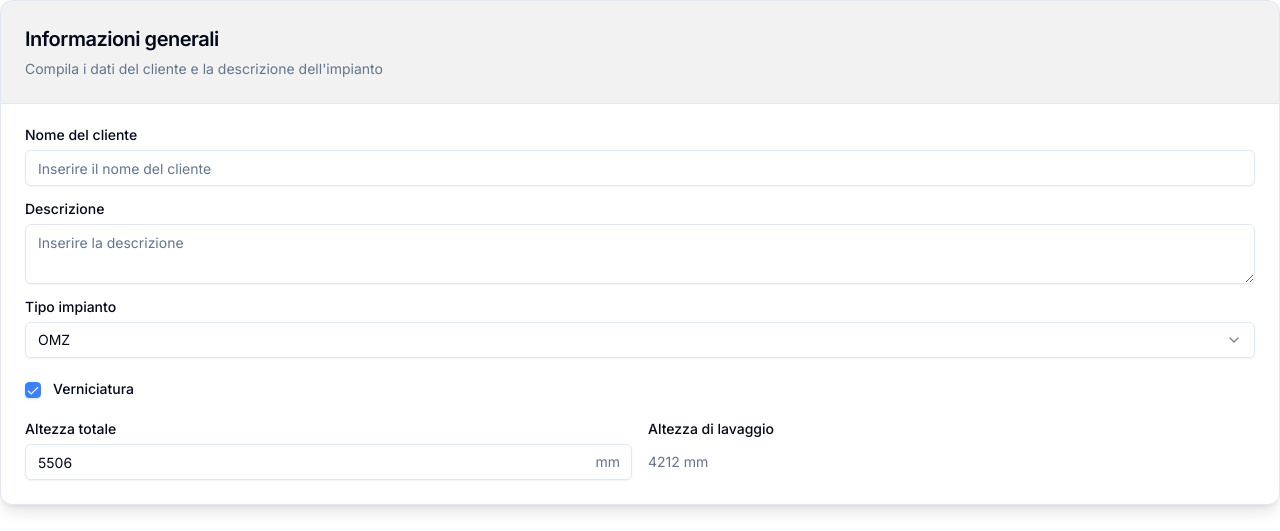
GeneralSection › Verniciatura checkbox › switching machine_type from OMZ to STD resets has_omz_paint to false
Click the dropdown named "Tipo impianto". click: (54, 340)
box: [25,322,1255,358]
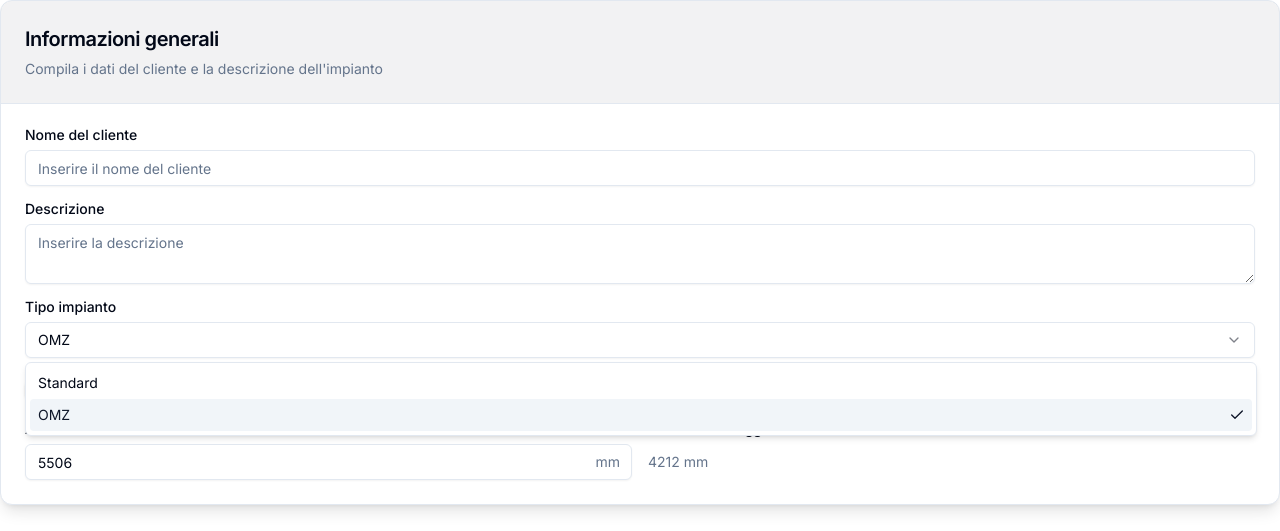
Click the option "Standard". click: (68, 382)
box: [38,374,98,391]
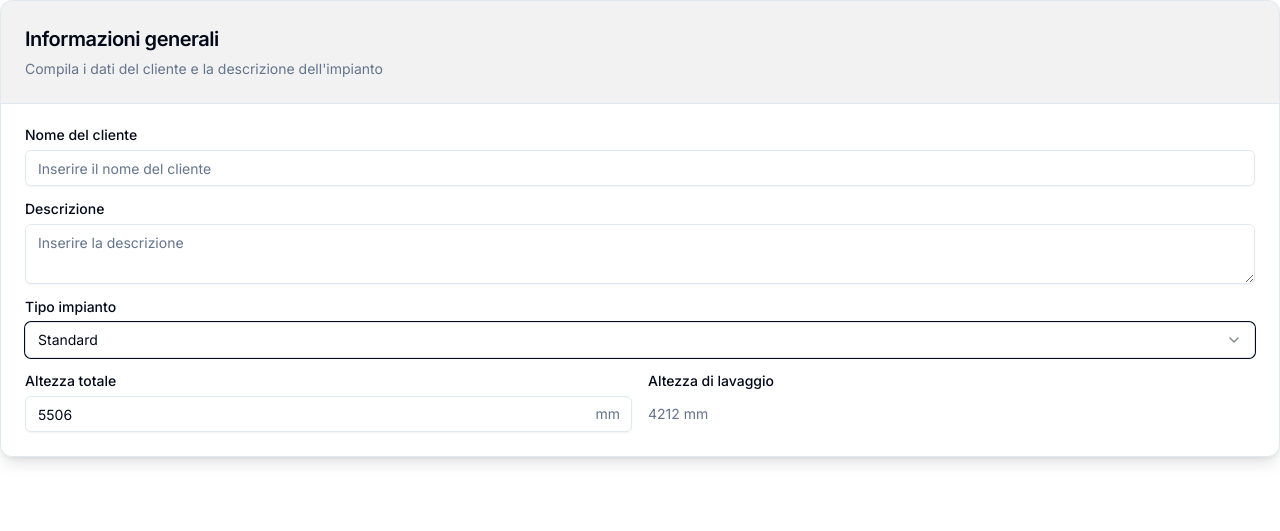
Expected: the label labelled "Verniciatura" is gone
